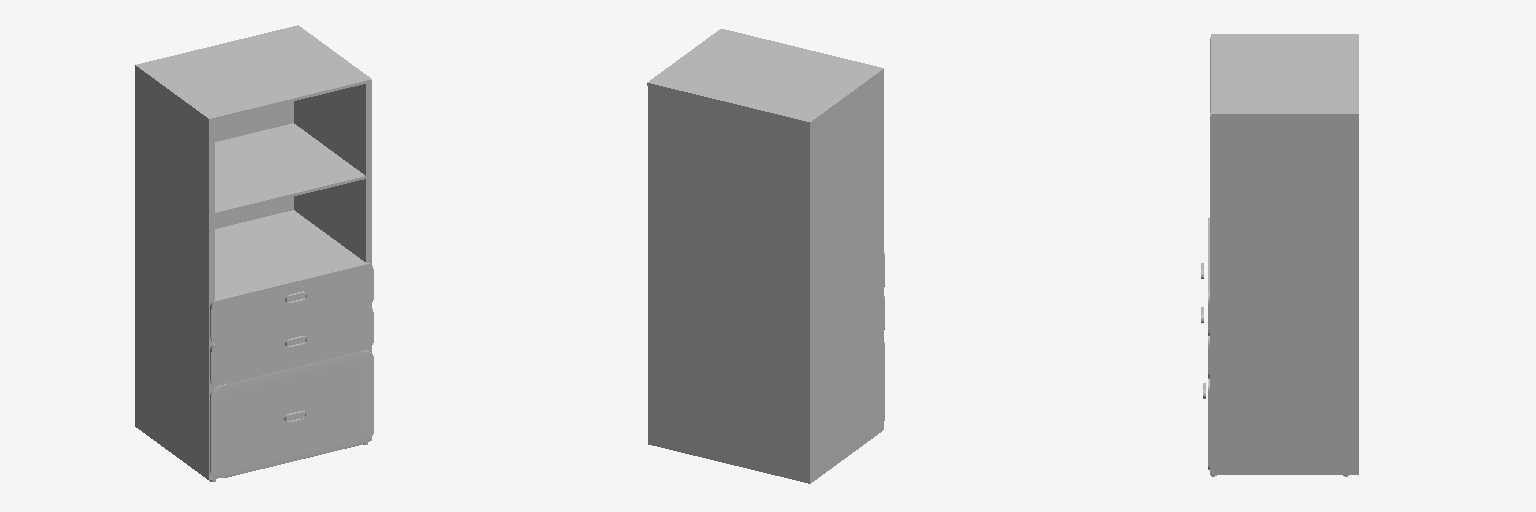
Rendered from StorageFurniture_StuvaFritidsBookcasePink.obj.
3 views of the same model, side by side, from view 1: azimuth 30°, elevation 25°; view 2: azimuth 150°, elevation 25°; view 3: azimuth 270°, elevation 25° (orthographic).
Visible parts, largest first — view 1: obj_0; view 2: obj_0; view 3: obj_0.
Part boxes in pixels (left/top/right/bottom): obj_0: left=135, top=25, right=373, bottom=481; obj_0: left=647, top=29, right=884, bottom=483; obj_0: left=1201, top=34, right=1358, bottom=476.
Size of the model in its own units: 60 by 128 by 50.